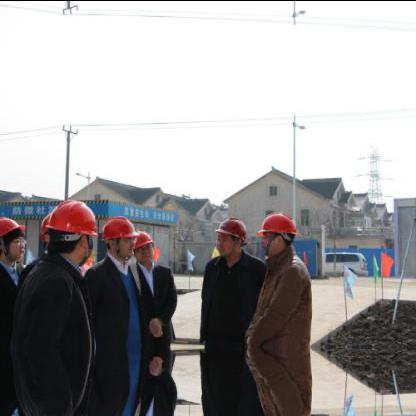Helmet: (44, 198, 96, 264), (256, 210, 298, 256), (100, 213, 134, 259), (212, 214, 246, 258), (131, 228, 151, 262)
